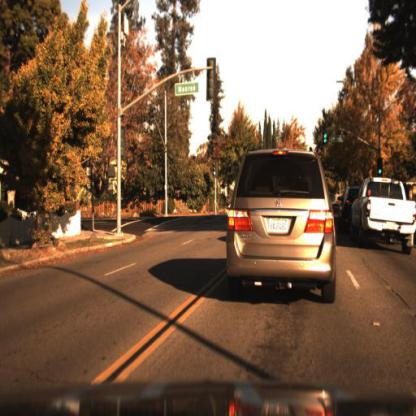car: (227, 148, 339, 307), (350, 177, 416, 256)
trafficLight: (323, 125, 331, 150)
trafficLight-Green: (377, 156, 386, 178)
trafficLight-GreenLeft: (213, 158, 220, 181)
